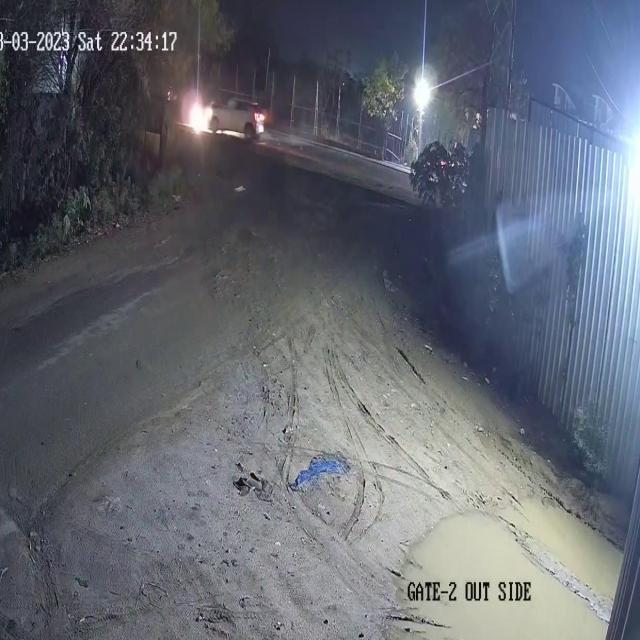accident: (167, 79, 277, 149)
